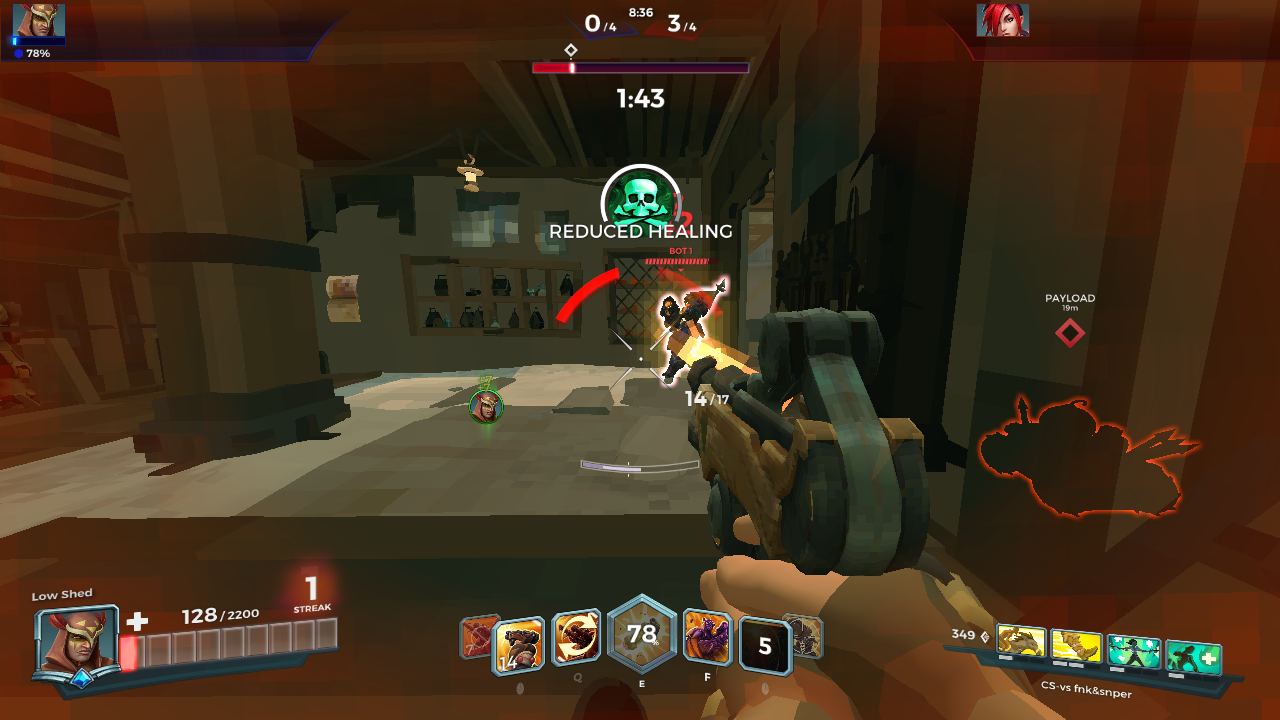model: (657, 281, 720, 364)
